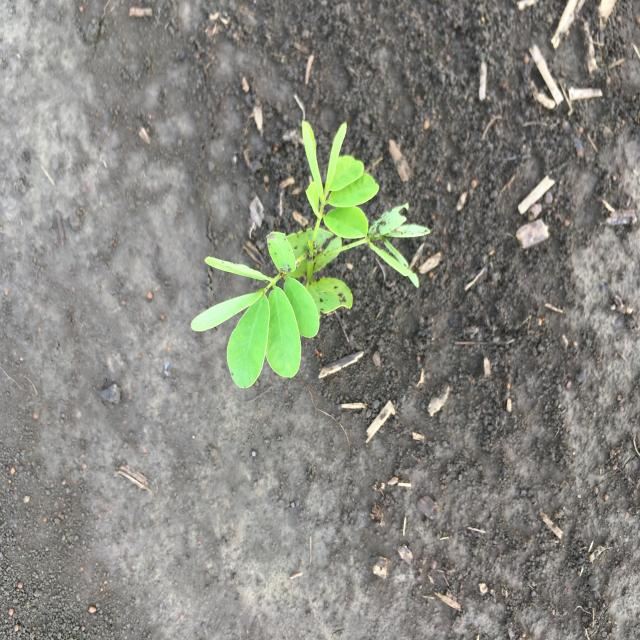Sicklepod: (189, 118, 433, 391)
